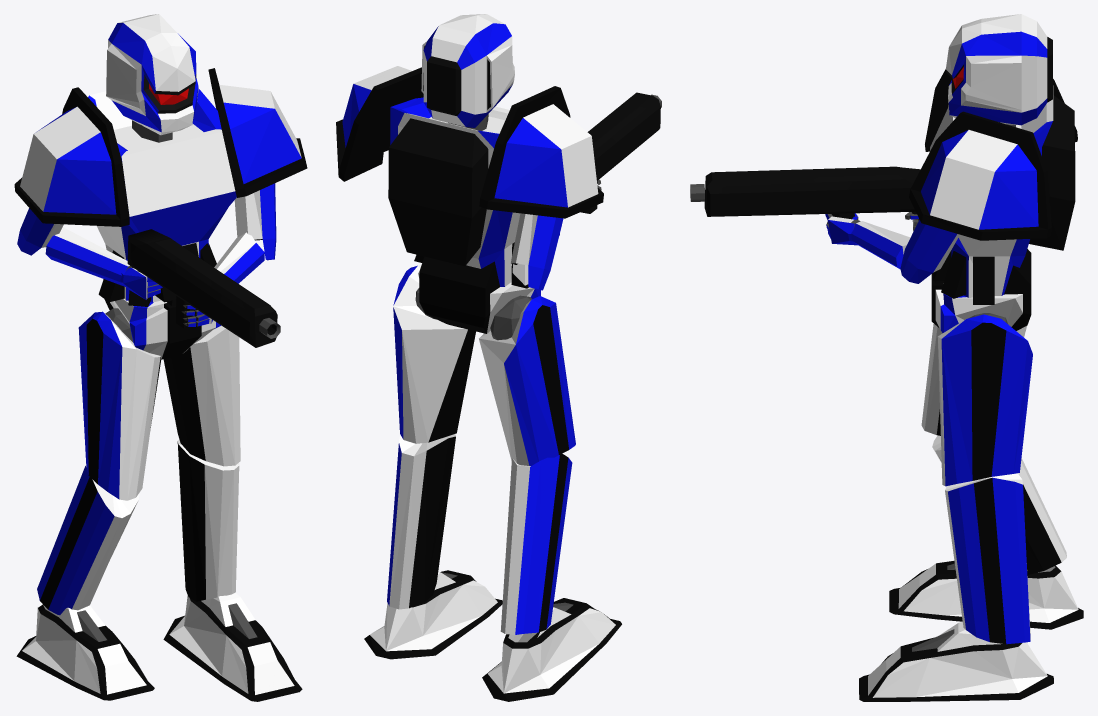
The model's file is robot_animation_000012.obj.
3 views of the same model, side by side, from view 1: azimuth 30°, elevation 25°; view 2: azimuth 150°, elevation 25°; view 3: azimuth 270°, elevation 25° (orthographic).
Parts seen in each view (by area): view 1: Chest_plate_Cube.004, R_Thigh_Cube.005, Cube.002_Cube.059, Head_base_Cube.022, R_Foot.002_Cube.035, R_Thigh.002_Cube.027, Cube_Cube.001, R_Shin.002_Cube.029, R_Foot_Cube, R_Shin_Cube.007, Cube_Cube.021, Pelvis_Cube.006 (+5 smaller); view 2: Chest_plate_Cube.004, Cube.002_Cube.059, R_Thigh_Cube.005, R_Shin_Cube.007, R_Thigh.002_Cube.027, R_Shin.002_Cube.029, Head_base_Cube.022, R_Foot_Cube, R_Foot.002_Cube.035, Cube_Cube.021, Pelvis_Cube.006, Cube_Cube.001 (+2 smaller); view 3: Cube_Cube.021, R_Thigh.002_Cube.027, R_Shin.002_Cube.029, R_Foot.002_Cube.035, Head_base_Cube.022, Cube_Cube.001, Chest_plate_Cube.004, R_Foot_Cube, Pelvis_Cube.006, R_Shin_Cube.007, L_Arm_Cube.014, L_Forearm_Cube.020 (+3 smaller).
Part boxes in pixels (<box>): Chest_plate_Cube.004: <box>88,89,236,306</box>; R_Thigh_Cube.005: <box>78,311,160,500</box>; Cube.002_Cube.059: <box>14,87,129,226</box>; Head_base_Cube.022: <box>106,14,198,135</box>; R_Foot.002_Cube.035: <box>163,593,302,701</box>; R_Thigh.002_Cube.027: <box>163,325,240,466</box>; Cube_Cube.001: <box>127,229,280,347</box>; R_Shin.002_Cube.029: <box>177,440,239,601</box>; R_Foot_Cube: <box>16,604,154,700</box>; R_Shin_Cube.007: <box>37,465,139,615</box>; Cube_Cube.021: <box>208,68,307,197</box>; Pelvis_Cube.006: <box>103,279,220,359</box>; Chest_plate_Cube.004: <box>388,97,528,288</box>; Cube.002_Cube.059: <box>479,86,603,218</box>; R_Thigh_Cube.005: <box>479,296,575,465</box>; R_Shin_Cube.007: <box>500,453,572,634</box>; R_Thigh.002_Cube.027: <box>393,265,475,443</box>; R_Shin.002_Cube.029: <box>387,434,455,609</box>; Head_base_Cube.022: <box>421,14,514,127</box>; R_Foot_Cube: <box>482,598,621,701</box>; R_Foot.002_Cube.035: <box>364,570,502,659</box>; Cube_Cube.021: <box>336,66,423,181</box>; Pelvis_Cube.006: <box>418,256,540,333</box>; Cube_Cube.001: <box>580,92,661,213</box>; Cube_Cube.021: <box>909,111,1051,240</box>; R_Thigh.002_Cube.027: <box>937,314,1032,486</box>; R_Shin.002_Cube.029: <box>945,473,1030,644</box>; R_Foot.002_Cube.035: <box>859,622,1053,701</box>; Head_base_Cube.022: <box>946,14,1052,125</box>; Cube_Cube.001: <box>690,166,920,220</box>; Chest_plate_Cube.004: <box>930,85,1075,304</box>; R_Foot_Cube: <box>889,561,1083,629</box>; Pelvis_Cube.006: <box>931,249,1031,332</box>; R_Shin_Cube.007: <box>932,435,1066,574</box>; L_Arm_Cube.014: <box>900,219,959,283</box>; L_Forearm_Cube.020: <box>851,221,910,269</box>.
Bounding box in the file's own units: 1.32 × 3.05 × 1.71.
